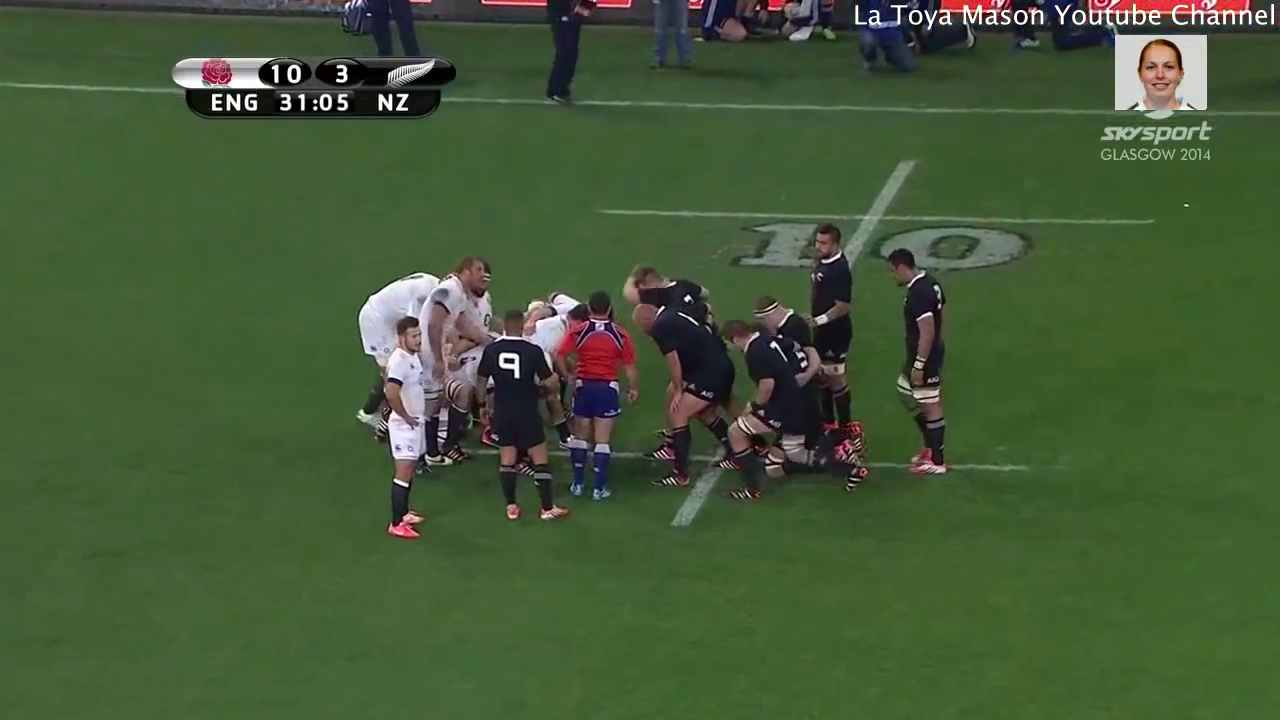10_metre: (411, 368, 1033, 545), (589, 152, 1165, 288)
player: (716, 312, 870, 507), (472, 300, 589, 532), (543, 277, 645, 516), (877, 243, 965, 484), (401, 242, 487, 485), (629, 292, 733, 488), (348, 246, 439, 444), (788, 216, 866, 438), (373, 312, 441, 548), (615, 258, 719, 337), (733, 280, 808, 354)
